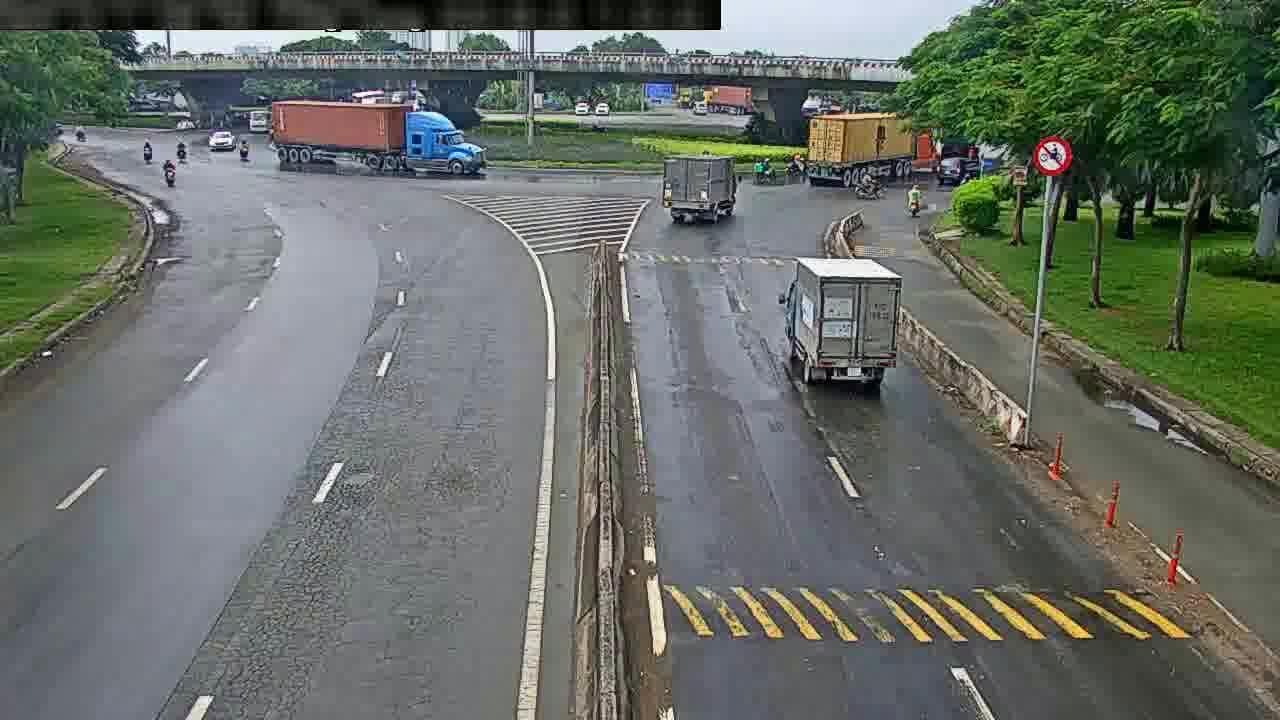car: (204, 125, 238, 151)
container: (776, 252, 905, 399), (266, 98, 488, 180), (806, 109, 942, 178), (659, 155, 749, 221)
motorbike: (854, 172, 887, 199), (903, 180, 923, 218), (750, 156, 777, 184), (162, 157, 180, 190), (140, 137, 155, 165), (174, 135, 187, 163), (236, 137, 250, 162)
